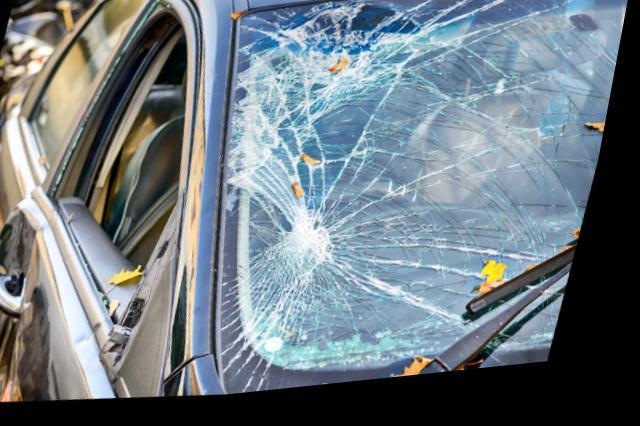glass shatter: (228, 0, 632, 401)
